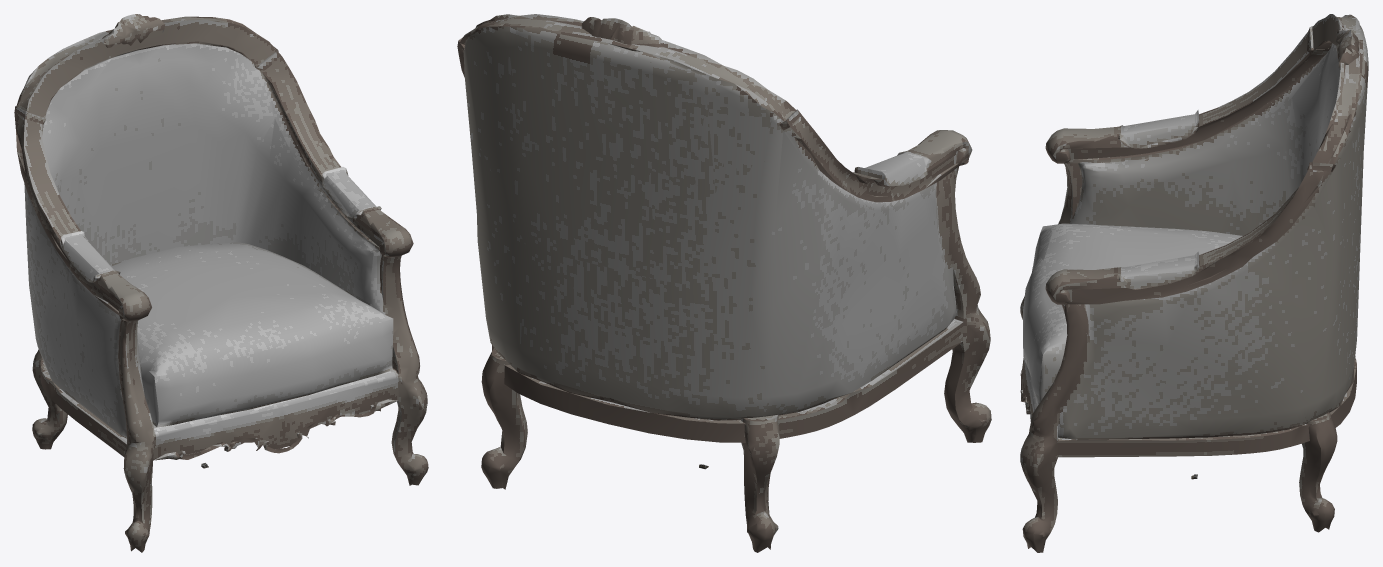
File: office.glb
3 views of the same model, side by side, from view 1: azimuth 30°, elevation 25°; view 2: azimuth 150°, elevation 25°; view 3: azimuth 270°, elevation 25° (orthographic). The views are drawn at different scales.
Visible parts, largest first — view 1: armchair; view 2: armchair; view 3: armchair.
Boxes of the visible parts, box(x1,y1,x2,y2) form: armchair: box(14, 14, 428, 552); armchair: box(457, 14, 991, 552); armchair: box(1020, 14, 1368, 552).
Size of the model in its own units: 18.97 by 24 by 17.12.
3 materials, 3 textured.
